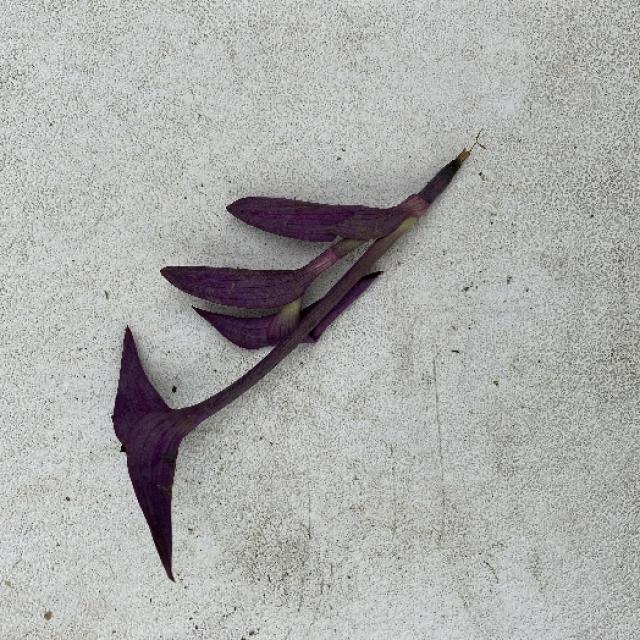wet: (127, 444, 179, 582)
